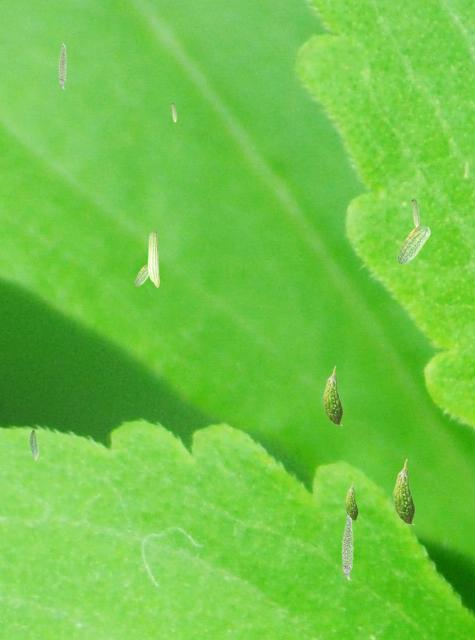ampalaya: (392, 458, 415, 525), (397, 225, 431, 264), (322, 365, 343, 426), (341, 514, 354, 580), (147, 228, 160, 288), (344, 481, 358, 521), (58, 42, 67, 89), (133, 264, 148, 287), (29, 427, 39, 461), (410, 199, 420, 226), (170, 102, 177, 122)
